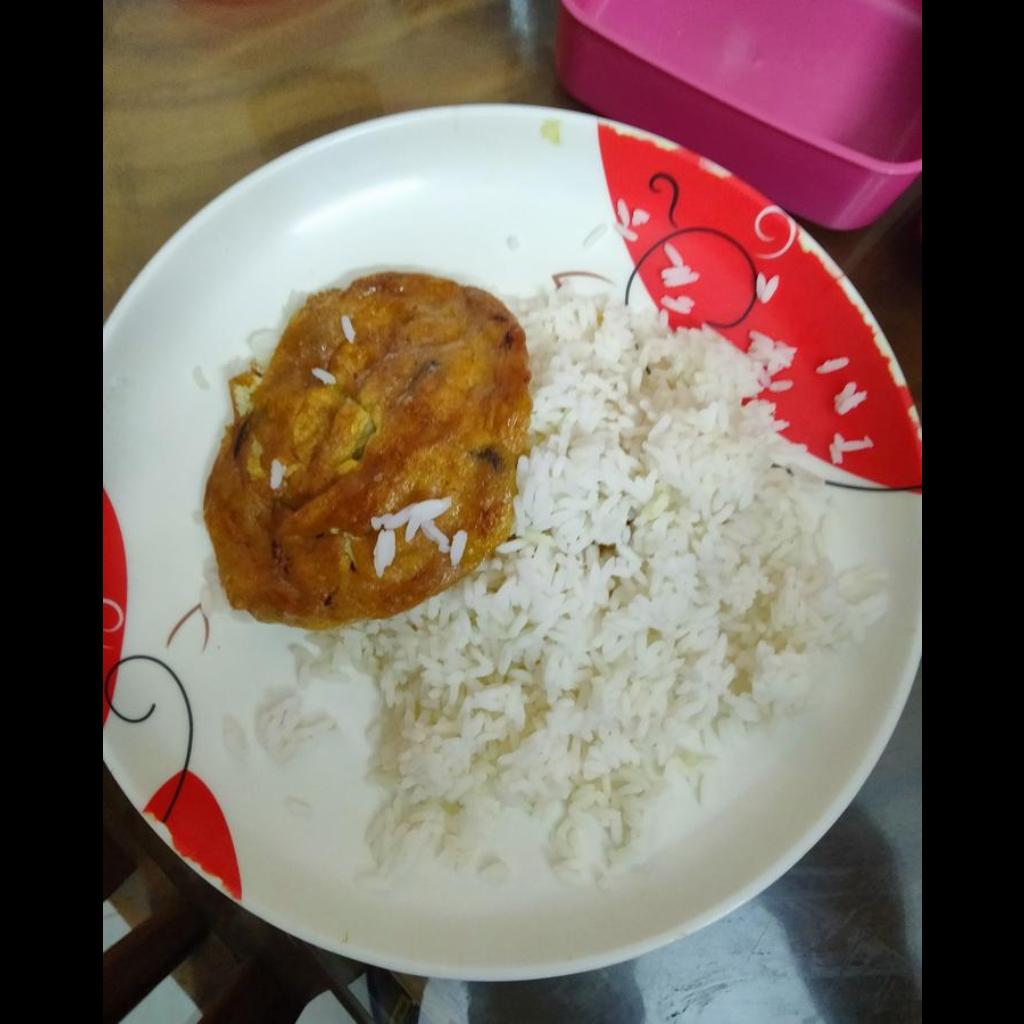chop-alu: (204, 274, 530, 627)
rice: (304, 293, 893, 889)
